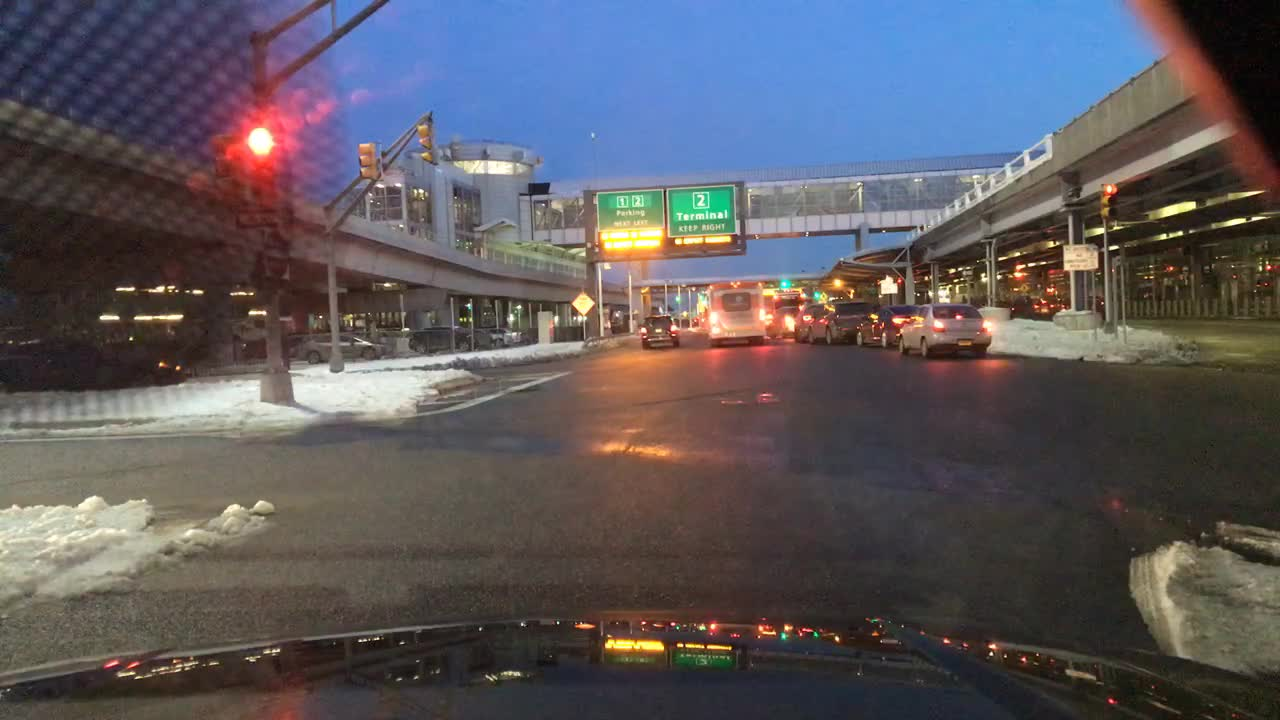bus: (703, 279, 763, 345)
car: (0, 327, 187, 390), (896, 301, 989, 357), (1203, 248, 1279, 292), (1126, 253, 1191, 303), (807, 299, 865, 345), (854, 306, 915, 347), (295, 335, 381, 358), (411, 325, 487, 350), (238, 335, 304, 355), (638, 315, 679, 347), (764, 308, 799, 343), (796, 303, 824, 340), (1030, 292, 1070, 315), (379, 333, 424, 353), (456, 328, 496, 345), (378, 326, 406, 342), (490, 328, 524, 340), (1010, 294, 1029, 315), (1086, 295, 1104, 311)
traffic light: (211, 134, 241, 210), (245, 121, 273, 202), (417, 124, 436, 164), (358, 142, 375, 180), (1099, 182, 1117, 217), (778, 279, 787, 289)
traffic sign: (666, 183, 732, 234), (595, 190, 662, 230), (263, 231, 291, 282), (603, 230, 661, 253), (238, 209, 292, 225), (671, 235, 731, 249), (1061, 245, 1098, 267), (573, 292, 591, 315), (881, 277, 896, 292)
